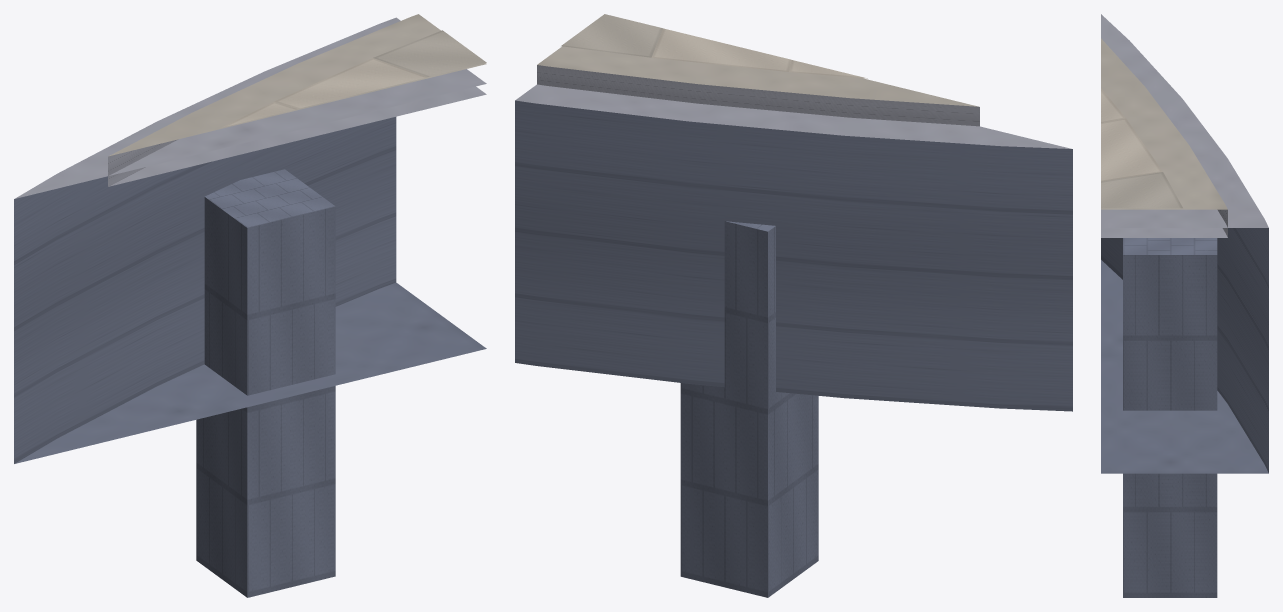
The model's file is high_crown_fracture_16.obj.
3 renders of one model, left to right at view 1: azimuth 30°, elevation 25°; view 2: azimuth 150°, elevation 25°; view 3: azimuth 270°, elevation 25°, orthographic. The views are drawn at different scales.
Visible parts, largest first — view 1: ArenaFracture16; view 2: ArenaFracture16; view 3: ArenaFracture16.
Boxes of the visible parts, x1,y1,x2,y2 form: ArenaFracture16: (14, 14, 486, 597); ArenaFracture16: (515, 14, 1072, 597); ArenaFracture16: (1101, 14, 1268, 597).
Size of the model in its own units: 8.78 by 8.66 by 2.91.
Materials: 4 (4 with a texture image).
